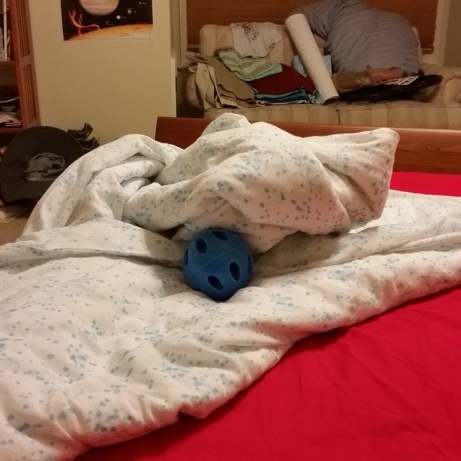ball: (178, 221, 259, 304)
